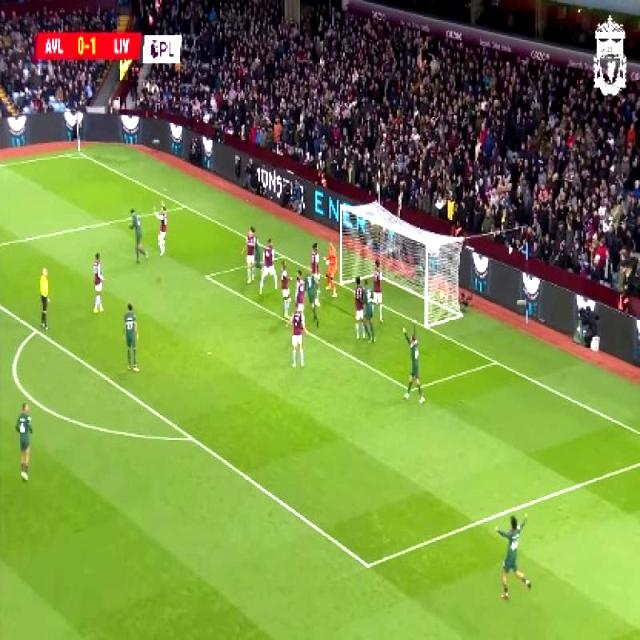bigarea_bottom_inner: (355, 548, 380, 582)
bigarea_top_outter: (177, 196, 191, 214)
bottom_arc_area_intersection: (182, 426, 200, 449)
corner: (66, 145, 88, 160)
smallarea_bottom_inner: (402, 378, 416, 400)
smallarea_bottom_outter: (486, 350, 504, 372)
smallarea_top_inner: (198, 265, 214, 285)
smallarea_top_outter: (274, 246, 289, 264)
top_arc_area_intersection: (26, 318, 44, 340)
